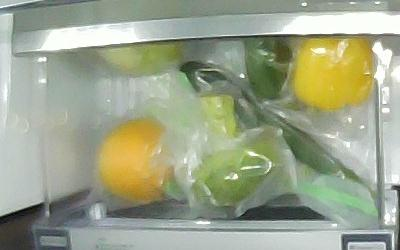broccoli_vinyl: (191, 93, 284, 207)
cucumber_vinyl: (180, 61, 375, 200)
grapefruit_vinyl: (98, 119, 174, 205)
lettuce_vinyl: (95, 41, 181, 76)
paprika_vinyl: (292, 37, 373, 110), (245, 38, 292, 98)
